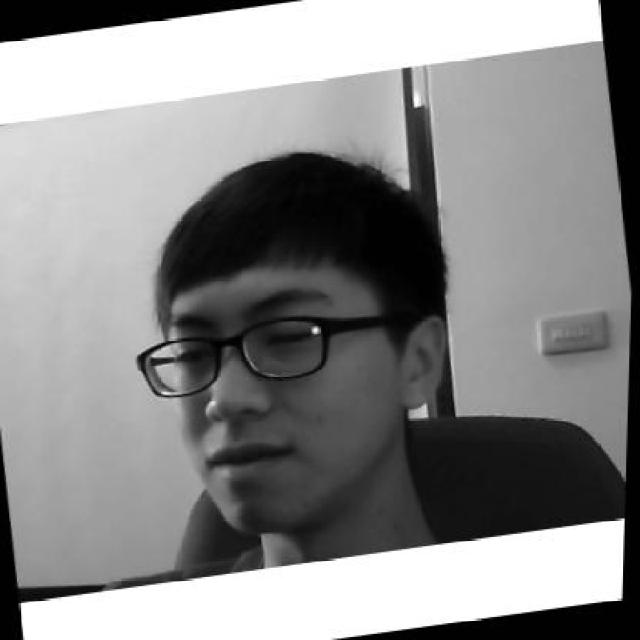inattentif: (110, 130, 476, 541)
